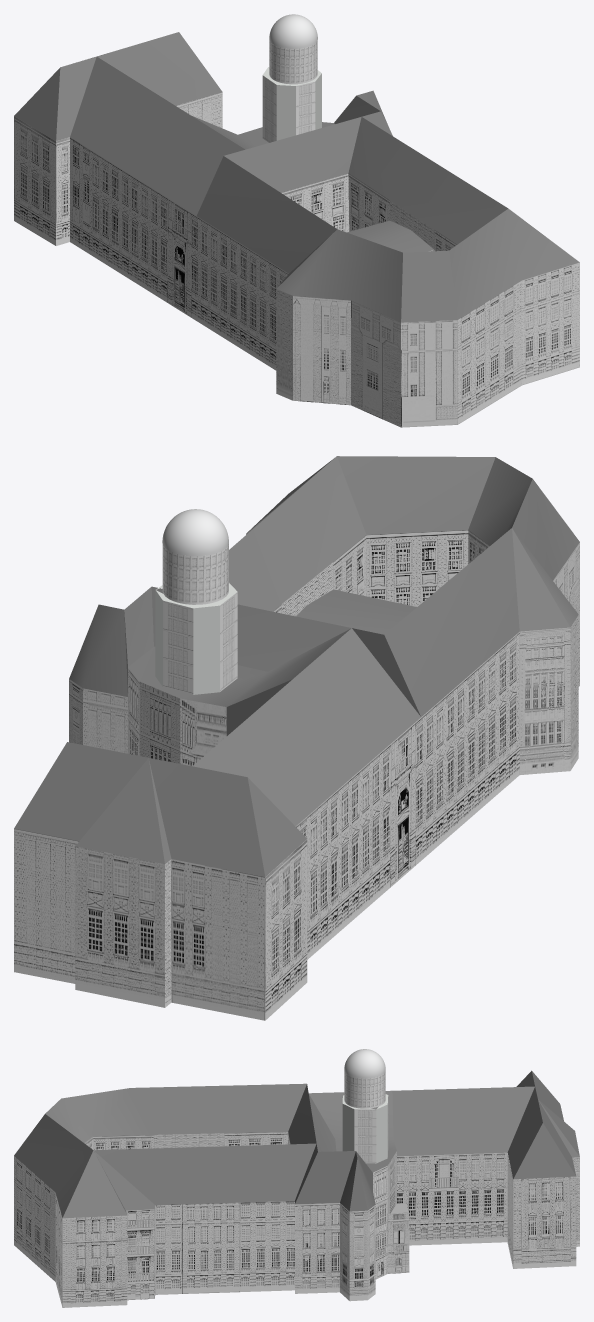
The model's file is Beyer-Bau.gltf.
3 views of the same model, one above another, from view 1: azimuth 30°, elevation 25°; view 2: azimuth 150°, elevation 25°; view 3: azimuth 270°, elevation 25° (orthographic). The views are drawn at different scales.
Parts seen in each view (by area): view 1: Dach.1; view 2: Dach.1; view 3: Dach.1.
Part boxes in pixels (x1=…): Dach.1: x1=14, y1=14, x2=579, y2=427; Dach.1: x1=14, y1=456, x2=579, y2=1020; Dach.1: x1=14, y1=1049, x2=579, y2=1307.
Size of the model in its own units: 53.42 by 46.06 by 112.
34 materials, 30 textured.
